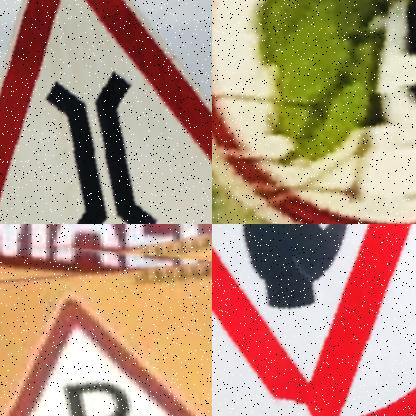Parking: (0, 257, 212, 416)
Stop: (212, 224, 416, 416), (250, 224, 345, 281)
